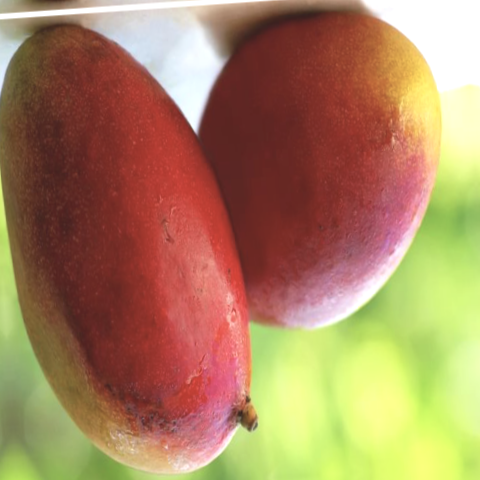mango: (0, 0, 290, 480), (154, 0, 480, 343)
